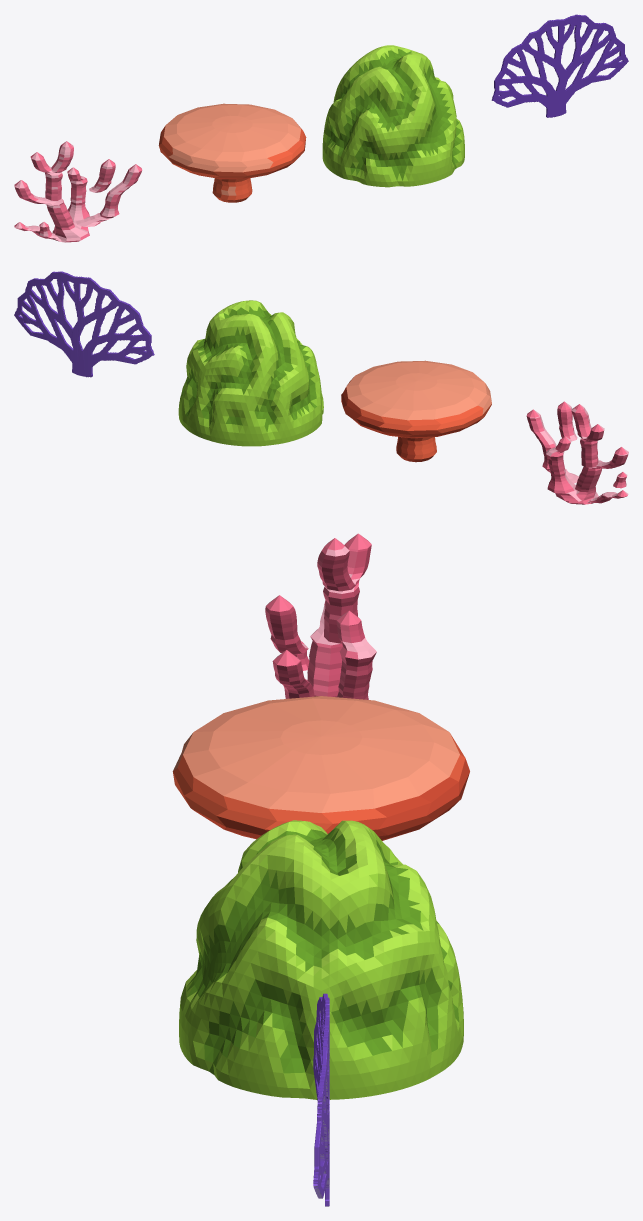
Rendered from MB_Kit_B.fbx.
3 views of the same model, one above another, from view 1: azimuth 30°, elevation 25°; view 2: azimuth 150°, elevation 25°; view 3: azimuth 270°, elevation 25° (orthographic). The views are drawn at different scales.
Visible parts, largest first — view 1: BrainCoral, TableCoral, SeaFan, BranchCoral; view 2: BrainCoral, TableCoral, SeaFan, BranchCoral; view 3: BrainCoral, TableCoral, BranchCoral, SeaFan.
Part boxes in pixels (left/top/right/bottom): BrainCoral: left=322, top=45, right=464, bottom=187; TableCoral: left=158, top=103, right=306, bottom=202; SeaFan: left=491, top=14, right=628, bottom=117; BranchCoral: left=14, top=141, right=142, bottom=242; BrainCoral: left=178, top=300, right=323, bottom=446; TableCoral: left=341, top=360, right=491, bottom=462; SeaFan: left=14, top=271, right=154, bottom=377; BranchCoral: left=526, top=401, right=628, bottom=504; BrainCoral: left=179, top=820, right=463, bottom=1099; TableCoral: left=172, top=696, right=469, bottom=840; BranchCoral: left=265, top=533, right=376, bottom=699; SeaFan: left=313, top=993, right=329, bottom=1206.
Bounding box in the file's own units: 5181 × 861 × 1100.
1 material, 1 textured.
